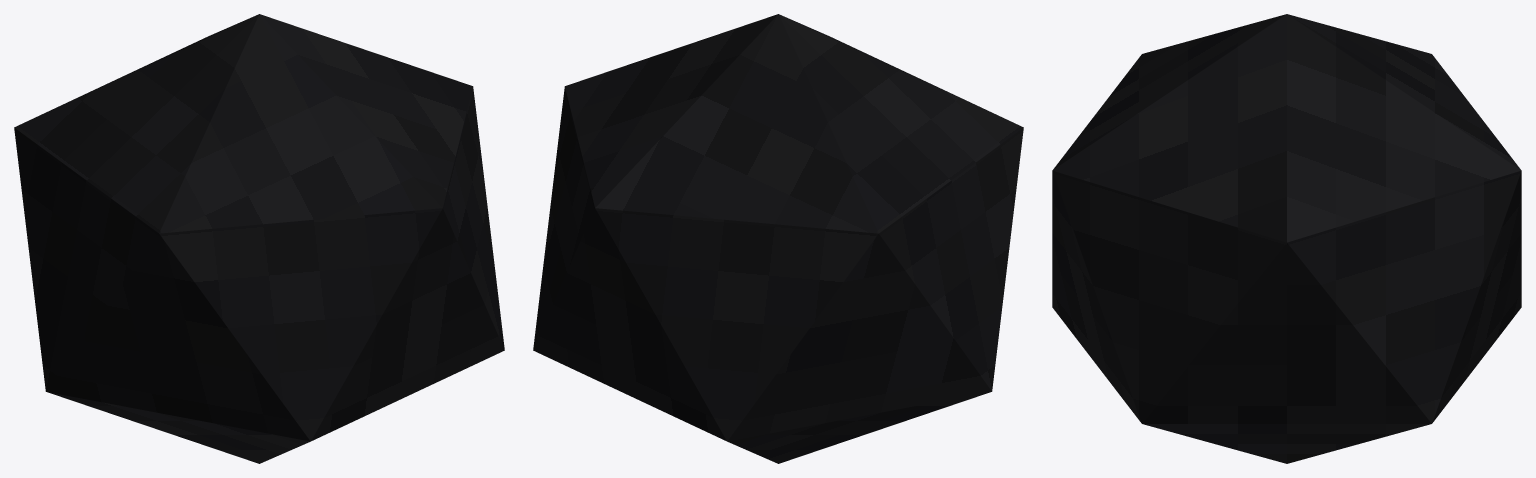
File: env_bin_bag.glb
3 renders of one model, left to right at view 1: azimuth 30°, elevation 25°; view 2: azimuth 150°, elevation 25°; view 3: azimuth 270°, elevation 25°, orthographic.
Parts seen in each view (by area): view 1: env_bin_bag; view 2: env_bin_bag; view 3: env_bin_bag.
Part boxes in pixels (box(x1,y1,x2,y2)): env_bin_bag: box(14, 14, 504, 463); env_bin_bag: box(533, 14, 1023, 463); env_bin_bag: box(1052, 14, 1521, 463).
Size of the model in its own units: 0.6261 by 0.63 by 0.5954.
Materials: 1 (1 with a texture image).
